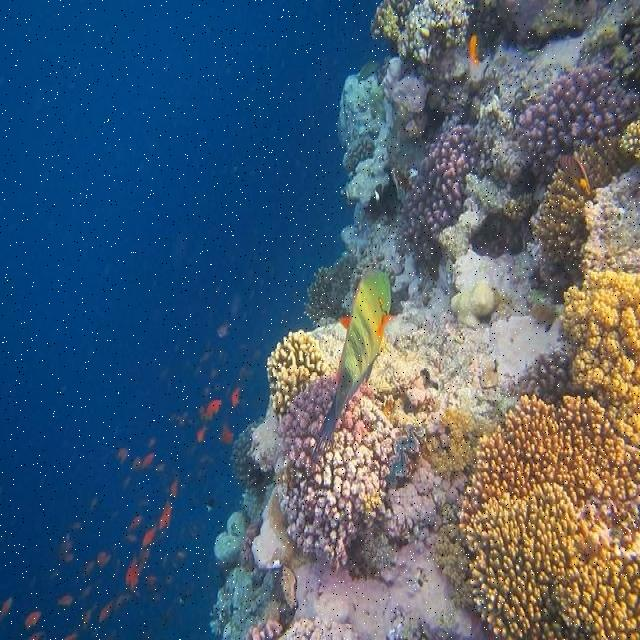fish: (310, 268, 396, 464), (96, 477, 178, 626), (552, 154, 593, 200), (184, 341, 230, 376), (115, 446, 156, 472), (57, 523, 82, 564), (81, 552, 114, 576), (200, 398, 223, 421), (469, 33, 480, 67), (216, 317, 233, 337), (0, 597, 14, 619), (25, 612, 42, 630), (221, 423, 233, 447), (232, 384, 241, 409), (196, 425, 208, 442), (55, 596, 72, 606)
reefs: (207, 0, 639, 639)
